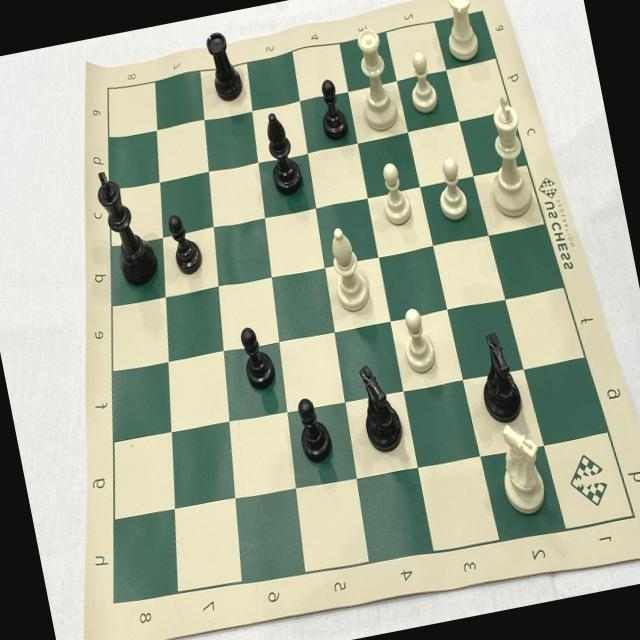black-bishop: (255, 101, 309, 202)
black-king: (88, 154, 164, 292)
black-knight: (468, 322, 534, 428), (350, 356, 411, 461)
black-pawn: (289, 386, 341, 471), (232, 318, 284, 399), (163, 204, 210, 281), (309, 67, 353, 146)
black-rook: (198, 20, 252, 110)
white-bishop: (322, 220, 377, 320)
white-king: (470, 88, 540, 225)
white-knight: (488, 413, 556, 524)
white-pawn: (393, 298, 444, 382), (371, 154, 420, 235), (400, 45, 445, 122), (429, 150, 473, 228)
white-queen: (344, 22, 404, 138)
white-rook: (432, 0, 490, 72)
